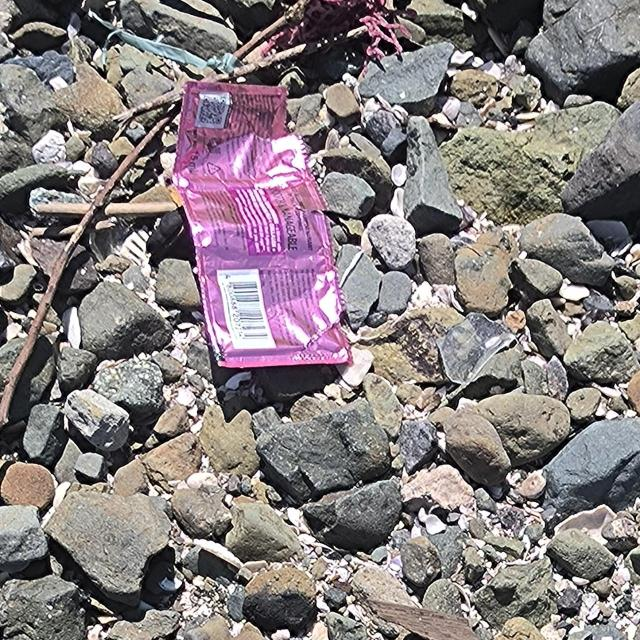plastic_waste: (172, 80, 357, 370)
